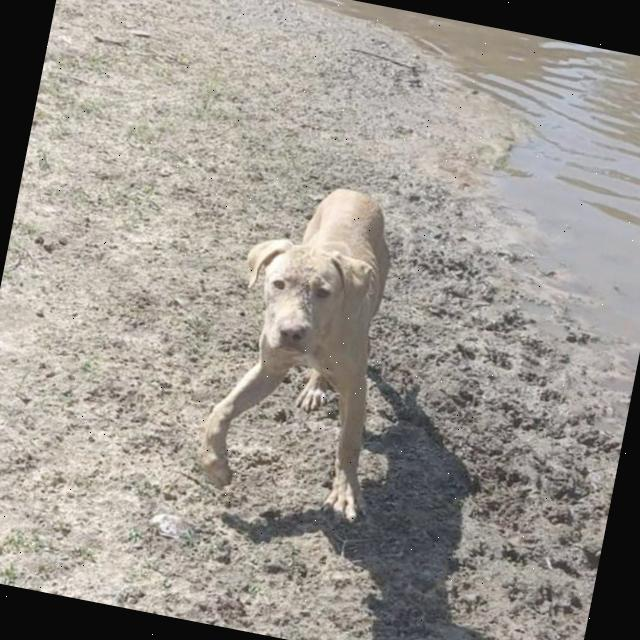labrador_retriever_dog: (220, 225, 392, 388)
